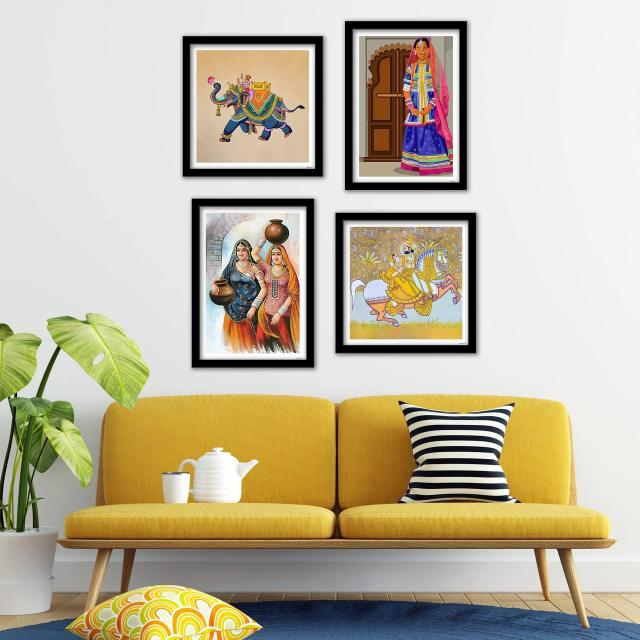painting: (344, 17, 468, 190), (192, 195, 315, 367), (181, 35, 325, 178), (334, 211, 478, 354)
